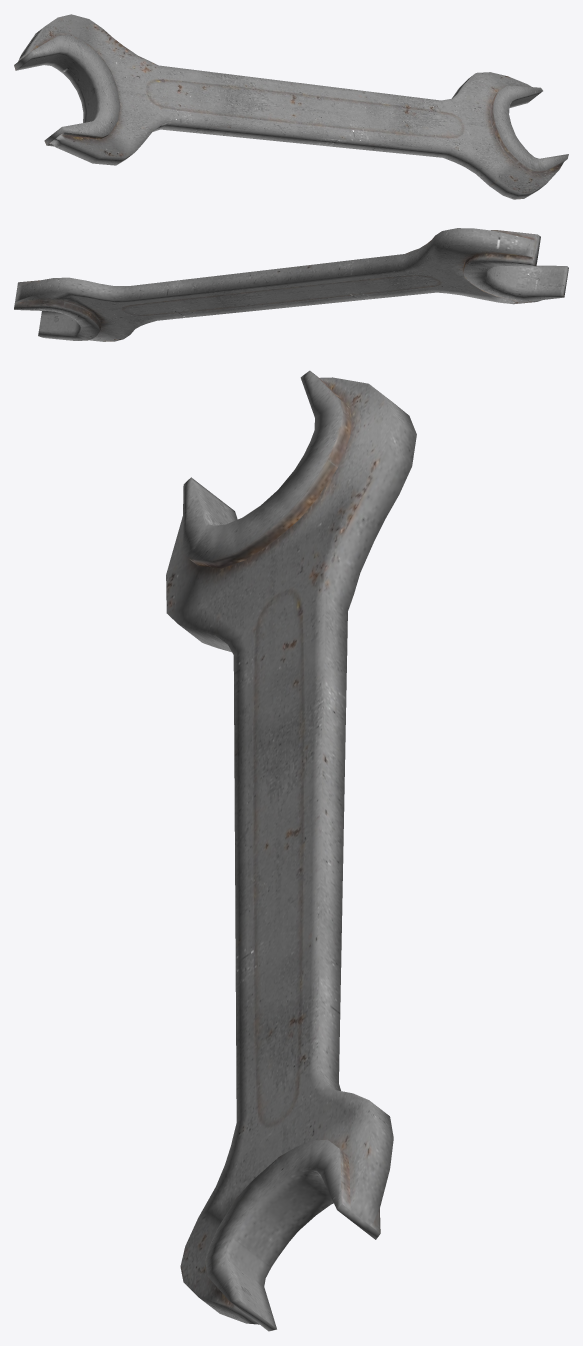
The model's file is wrench.glb.
3 views of the same model, one above another, from view 1: azimuth 30°, elevation 25°; view 2: azimuth 150°, elevation 25°; view 3: azimuth 270°, elevation 25° (orthographic). The views are drawn at different scales.
Visible parts, largest first — view 1: wrench_low; view 2: wrench_low; view 3: wrench_low.
Part boxes in pixels (<box>): wrench_low: <box>14,14,568,199</box>; wrench_low: <box>14,228,568,341</box>; wrench_low: <box>166,370,416,1331</box>.
Bounding box in the file's own units: 1.89 × 0.8585 × 0.3936.
1 material, 1 textured.
